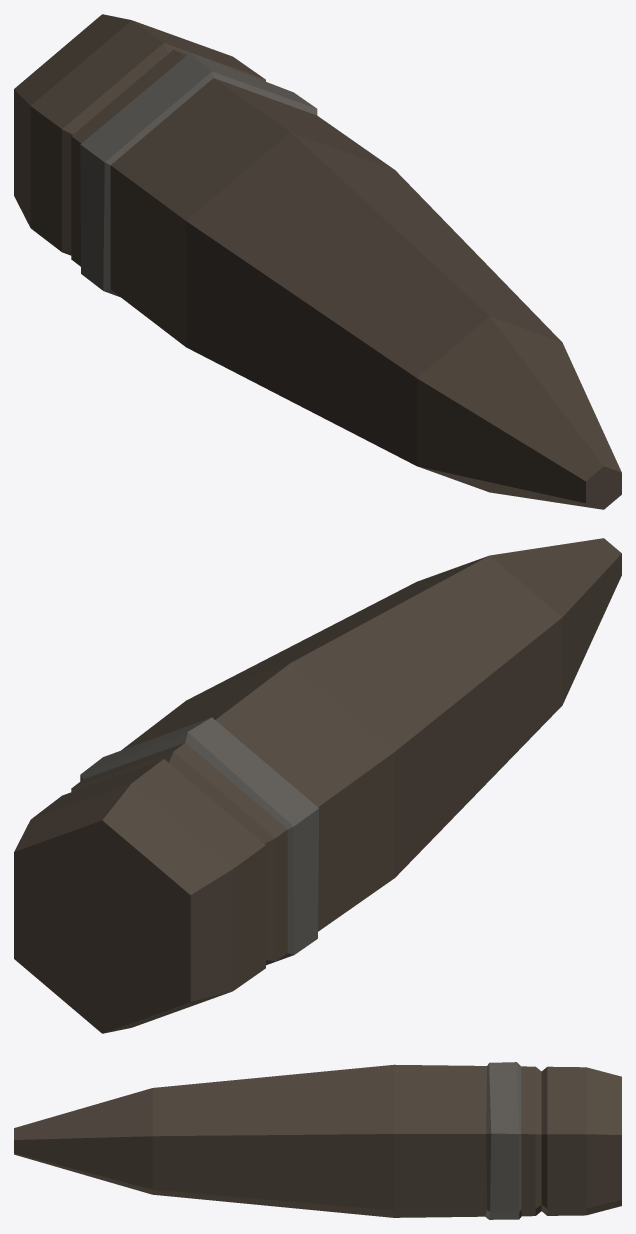
The model's file is SM_Prop_IED_02.fbx.
3 views of the same model, one above another, from view 1: azimuth 30°, elevation 25°; view 2: azimuth 150°, elevation 25°; view 3: azimuth 270°, elevation 25° (orthographic). The views are drawn at different scales.
Parts seen in each view (by area): view 1: SM_Prop_IED_02; view 2: SM_Prop_IED_02; view 3: SM_Prop_IED_02.
Part boxes in pixels (x1,y1,x2,y2): SM_Prop_IED_02: (14, 14, 621, 509); SM_Prop_IED_02: (14, 538, 621, 1033); SM_Prop_IED_02: (14, 1062, 621, 1219).
Size of the model in its own units: 14.83 by 17.25 by 60.1.
